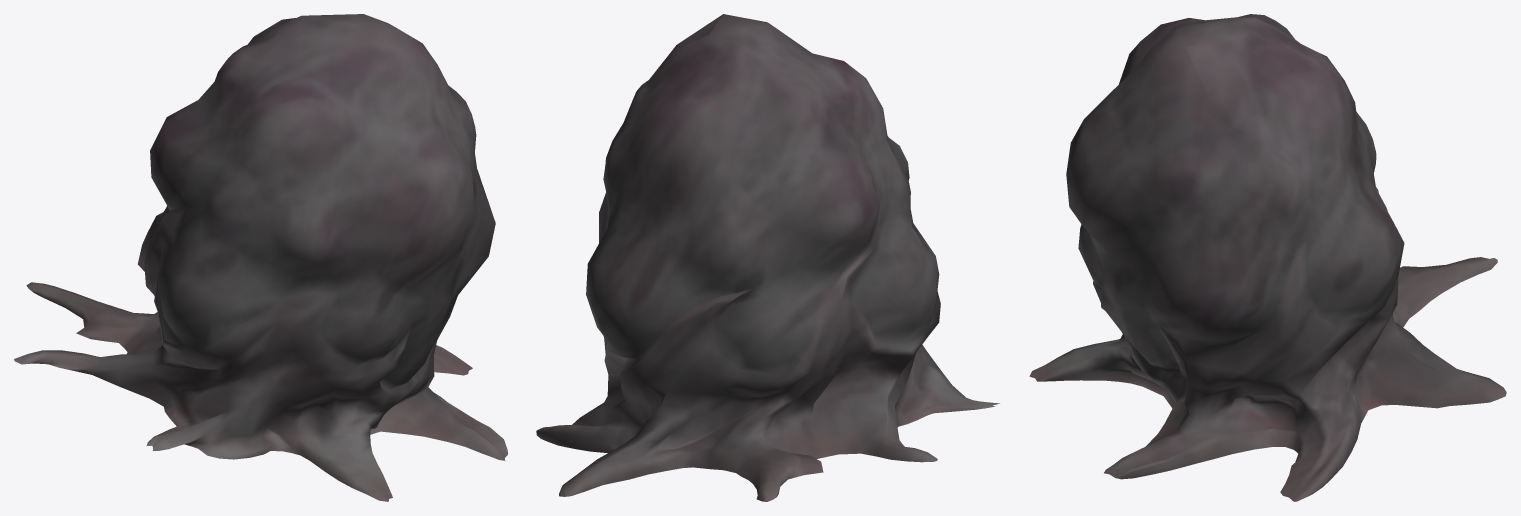
Rendered from Cocoon (31).fbx.
3 renders of one model, left to right at view 1: azimuth 30°, elevation 25°; view 2: azimuth 150°, elevation 25°; view 3: azimuth 270°, elevation 25°, orthographic. The views are drawn at different scales.
Visible parts, largest first — view 1: Egg; view 2: Egg; view 3: Egg.
Boxes of the visible parts, box(x1,y1,x2,y2) form: Egg: box(14, 14, 507, 501); Egg: box(536, 14, 999, 501); Egg: box(1029, 14, 1506, 501).
Size of the model in its own units: 1.08 by 0.9986 by 1.08.
Materials: 1 (1 with a texture image).
